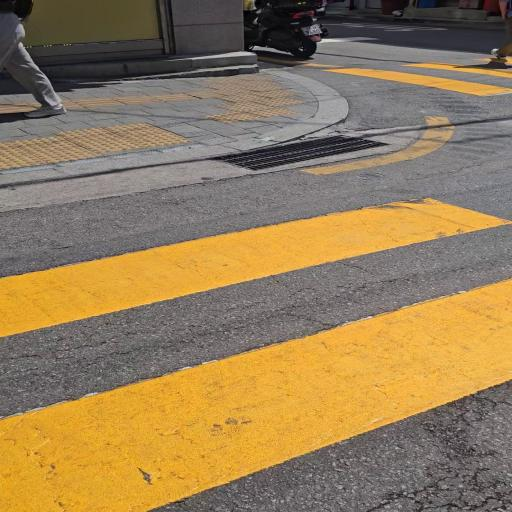yellow-crosswalk: (9, 190, 512, 512), (313, 39, 512, 107)
